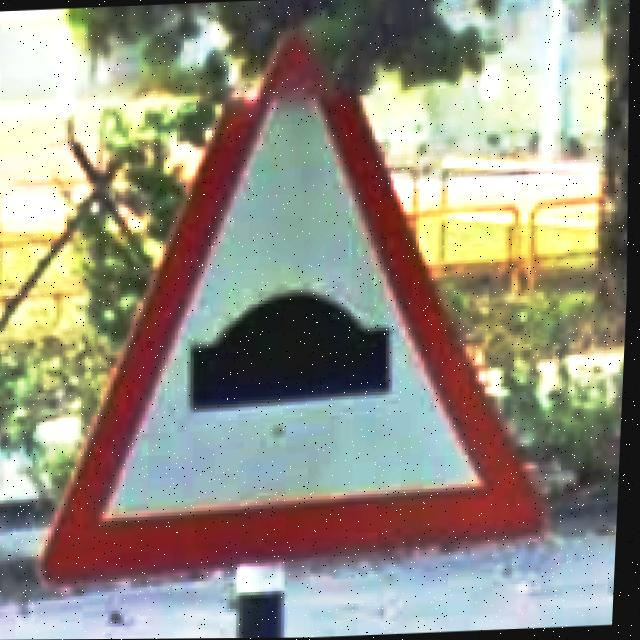hump: (43, 31, 552, 585)
